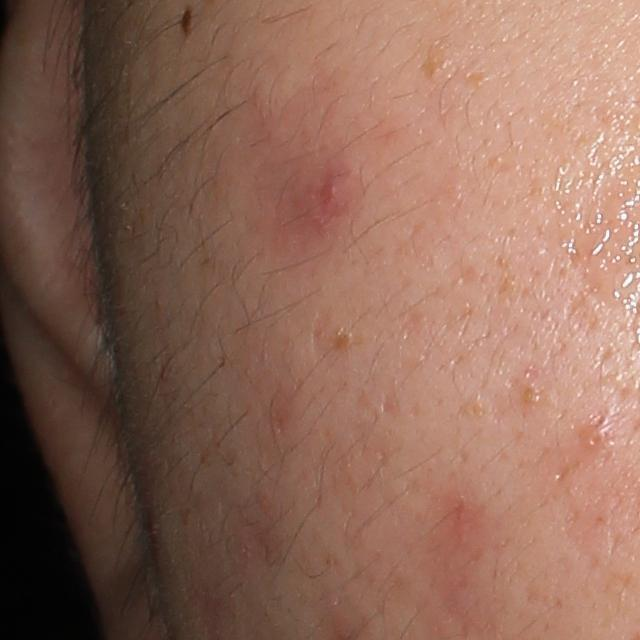comedo: (581, 423, 611, 449)
melasma: (419, 41, 454, 80)
nevus: (177, 3, 194, 40)
papule: (312, 165, 359, 213)
